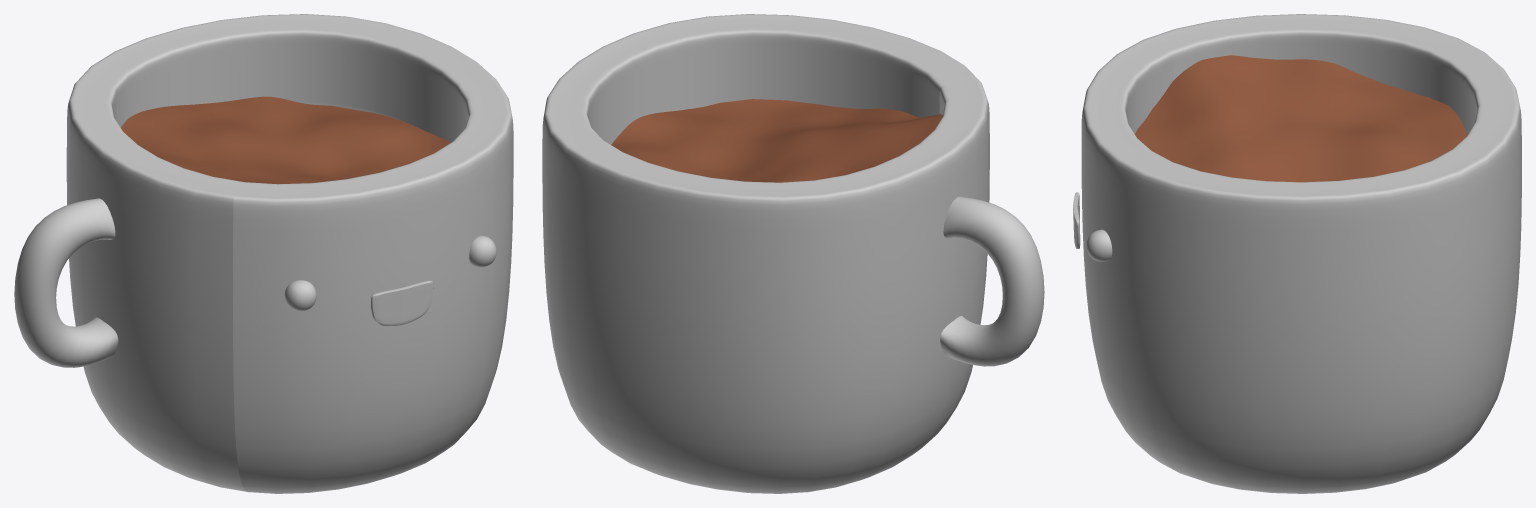
The model's file is cute_mug.dae.
The picture shows the model from 3 angles, left to right: view 1: azimuth 30°, elevation 25°; view 2: azimuth 150°, elevation 25°; view 3: azimuth 270°, elevation 25°; orthographic projection.
Visible parts, largest first — view 1: Object_4, Object_6, Object_8, Object_12, Object_10, Object_14; view 2: Object_4, Object_6, Object_8; view 3: Object_4, Object_6, Object_14.
Part boxes in pixels (bbox=[...]): Object_4: bbox=[66, 14, 513, 493]; Object_6: bbox=[121, 96, 450, 184]; Object_8: bbox=[14, 198, 118, 367]; Object_12: bbox=[371, 280, 433, 325]; Object_10: bbox=[284, 280, 316, 311]; Object_14: bbox=[469, 235, 496, 267]; Object_4: bbox=[542, 14, 989, 493]; Object_6: bbox=[611, 99, 942, 182]; Object_8: bbox=[940, 196, 1044, 366]; Object_4: bbox=[1081, 14, 1521, 493]; Object_6: bbox=[1135, 55, 1467, 182]; Object_14: bbox=[1086, 229, 1112, 261].
Bounding box in the file's own units: 0.1426 × 0.1192 × 0.0996.
